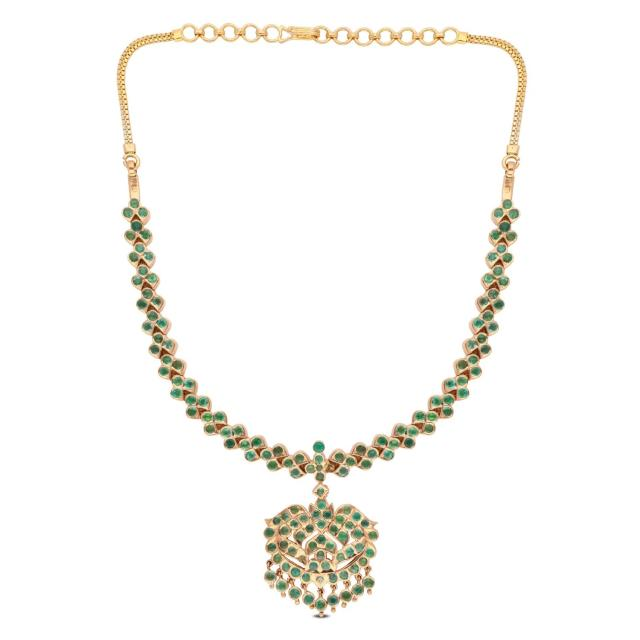missing gem: (324, 463, 335, 473), (297, 552, 305, 560), (317, 577, 324, 584)
